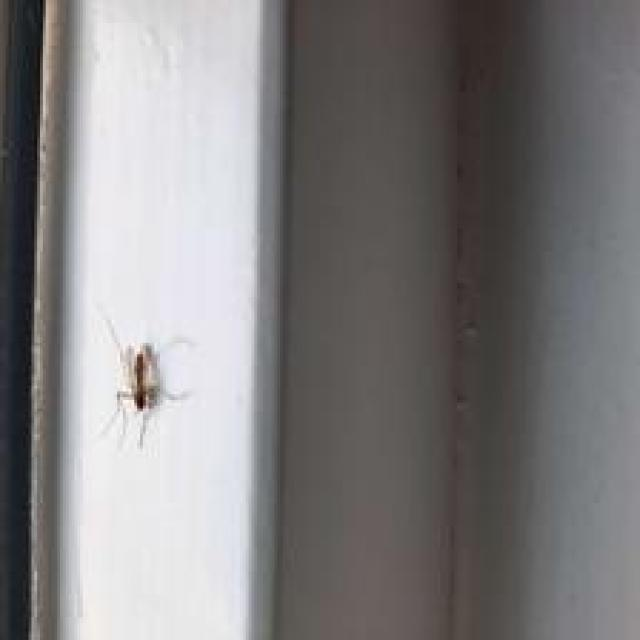Culex: (94, 306, 194, 448)
